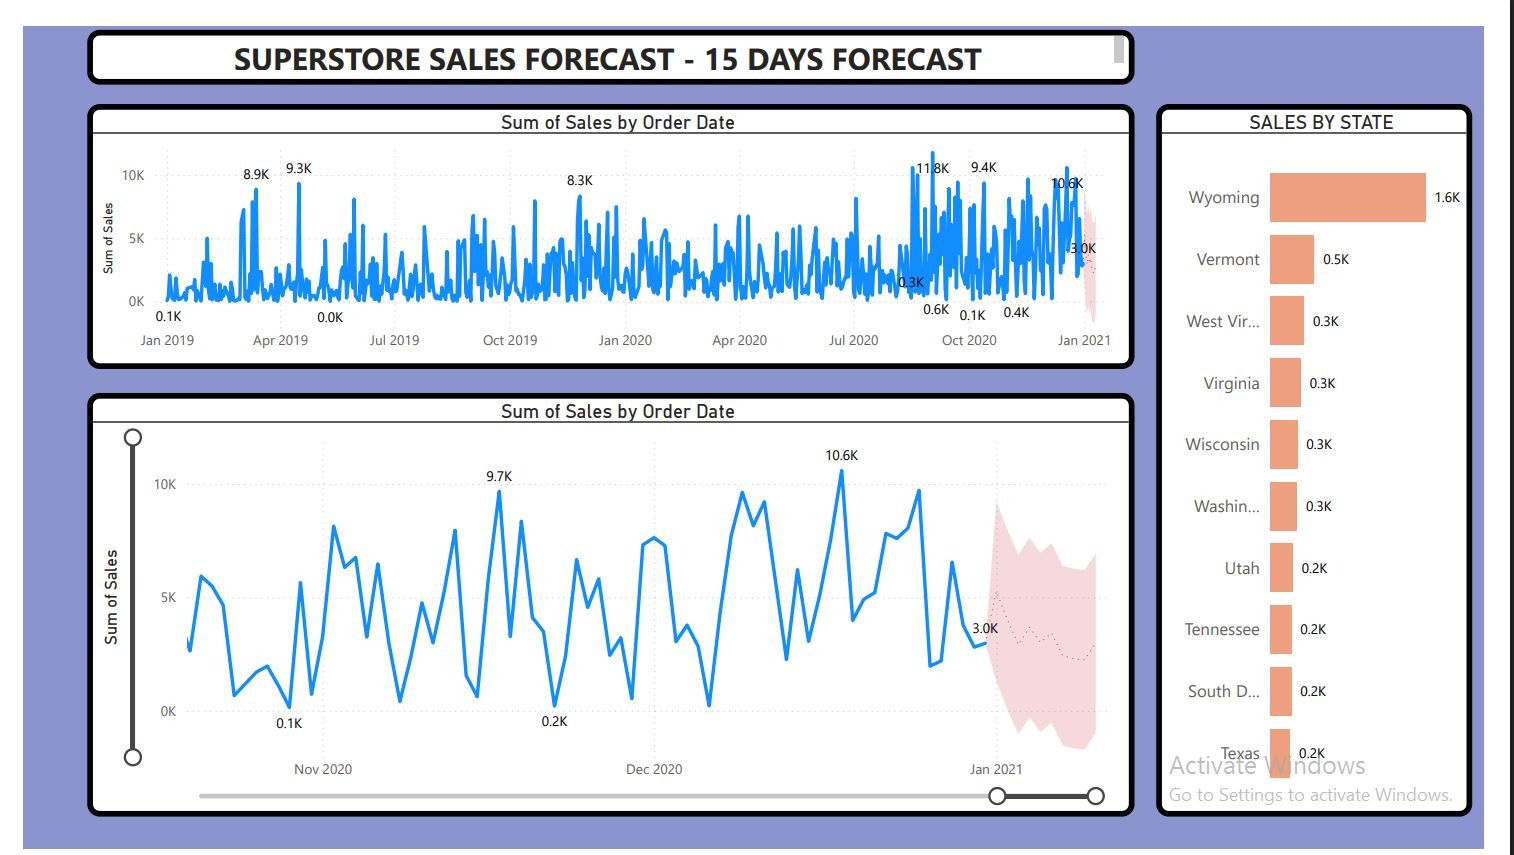

The page's visual inventory and layout, read from the dashboard file:
{"tool":"powerbi","page":{"name":"Page 2","canvas":[1280,720],"ordinal":1},"visuals":[{"type":"lineChart","fields":{"Y":["Sum(Sheet1.Sales)"],"Category":["Sheet1.Order Date"]},"box":[56.3,67.9,917.4,232.6],"z":0},{"type":"lineChart","fields":{"Y":["Sum(Sheet1.Sales)"],"Category":["Sheet1.Order Date"]},"box":[56.3,320.7,917.4,371.3],"z":1000},{"type":"textbox","box":[56.3,2.9,917.4,47.7],"z":2000},{"type":"clusteredBarChart","title":"SALES BY STATE","fields":{"Y":["Avg(Sheet1.Sales)"],"Category":["Sheet1.State"]},"box":[992.5,67.9,277.4,624.1],"z":3000}]}

Visuals, with their boxes in screenshot pixels (x1, y1, x2, y2), scaled from the page's 1280x720 canvas onto the 1514x855 screenshot:
lineChart - Sum(Sheet1.Sales) x Sheet1.Order Date: (left=67, top=81, right=1152, bottom=357)
lineChart - Sum(Sheet1.Sales) x Sheet1.Order Date: (left=67, top=381, right=1152, bottom=822)
textbox: (left=67, top=3, right=1152, bottom=60)
"SALES BY STATE" clusteredBarChart: (left=1174, top=81, right=1502, bottom=822)
